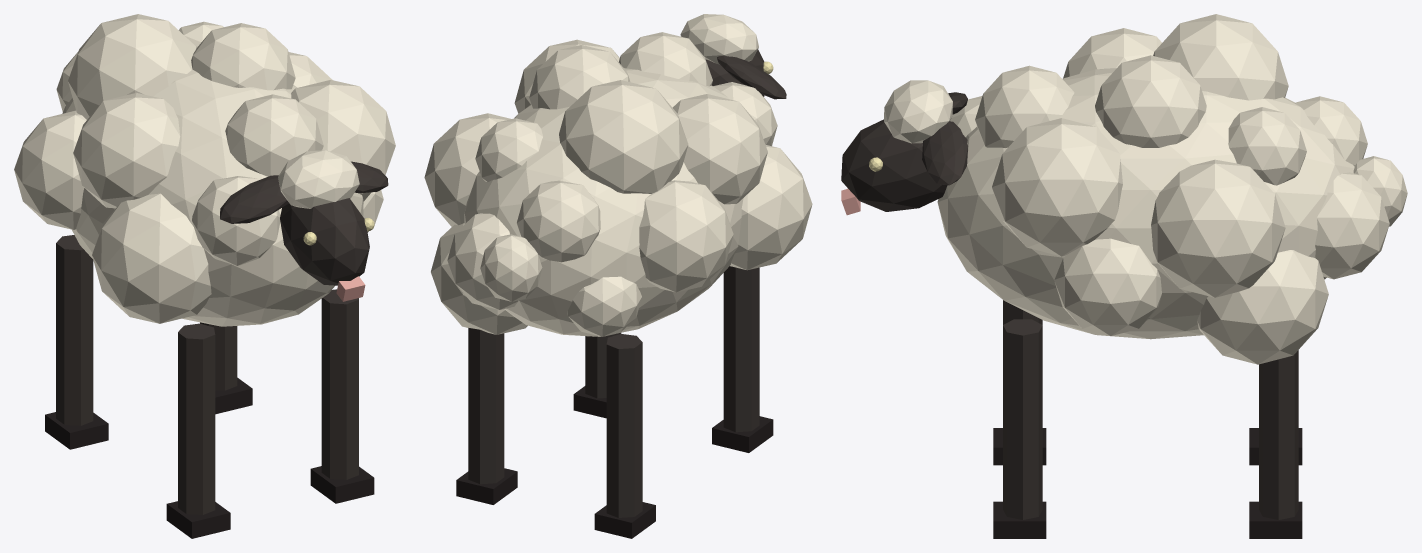
Rendered from sheep.glb.
The picture shows the model from 3 angles, left to right: view 1: azimuth 30°, elevation 25°; view 2: azimuth 150°, elevation 25°; view 3: azimuth 270°, elevation 25°; orthographic projection. The views are drawn at different scales.
Parts seen in each view (by area): view 1: body, wool_11, wool_4, wool_1, leg_FR_shaft, leg_FL_shaft, leg_BR_shaft, wool_9, wool_5, skull, wool_2, wool (+14 smaller); view 2: body, wool_1, wool_9, wool_4, leg_BR_shaft, wool_11, leg_FR_shaft, leg_BL_shaft, wool_6, wool_8, wool, wool_10 (+15 smaller); view 3: body, wool_8, wool_5, wool_14, wool_12, leg_FL_shaft, wool, wool_1, leg_BL_shaft, skull, wool_10, wool_2 (+9 smaller).
Boxes of the visible parts, box(x1,y1,x2,y2) form: body: box(62, 46, 363, 326); wool_11: box(92, 193, 211, 323); wool_4: box(73, 93, 180, 208); wool_1: box(68, 14, 196, 119); leg_FR_shaft: box(178, 323, 215, 514); leg_FL_shaft: box(321, 289, 358, 479); leg_BR_shaft: box(56, 235, 93, 425); wool_9: box(14, 110, 86, 229); wool_5: box(291, 80, 395, 201); skull: box(280, 198, 369, 285); wool_2: box(225, 94, 323, 176); wool: box(191, 23, 295, 90); body: box(464, 68, 743, 336); wool_1: box(559, 80, 688, 193); wool_9: box(639, 180, 733, 292); wool_4: box(672, 94, 767, 204); leg_BR_shaft: box(606, 334, 642, 517); wool_11: box(730, 145, 812, 270); leg_FR_shaft: box(723, 266, 759, 432); leg_BL_shaft: box(468, 328, 504, 484); wool_6: box(517, 180, 600, 262); wool_8: box(424, 113, 510, 226); wool: box(529, 45, 630, 109); wool_10: box(447, 213, 518, 309); body: box(937, 68, 1354, 339); wool_8: box(1151, 159, 1285, 297); wool_5: box(992, 118, 1122, 256); wool_14: box(1197, 250, 1328, 364); wool_12: box(1054, 238, 1161, 336); leg_FL_shaft: box(1003, 319, 1042, 519); wool: box(1095, 55, 1206, 147); wool_1: box(1153, 14, 1288, 100); leg_BL_shaft: box(1259, 350, 1298, 519); skull: box(841, 119, 967, 211); wool_10: box(1315, 172, 1389, 279); wool_2: box(975, 65, 1074, 147).
Bounding box in the file's own units: 0.7742 × 1.03 × 1.17.
